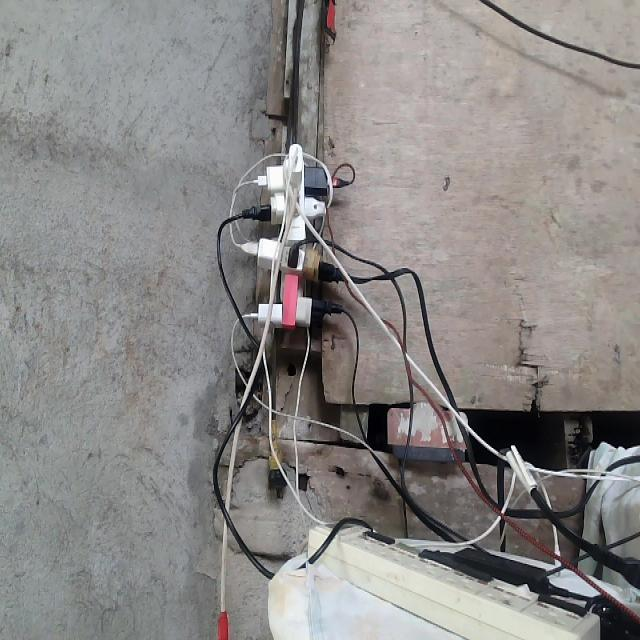-: (236, 145, 352, 327)
